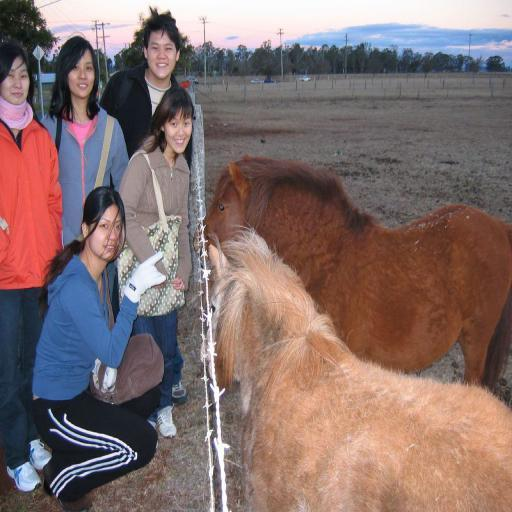horse: (198, 230, 512, 512), (191, 152, 512, 389)
